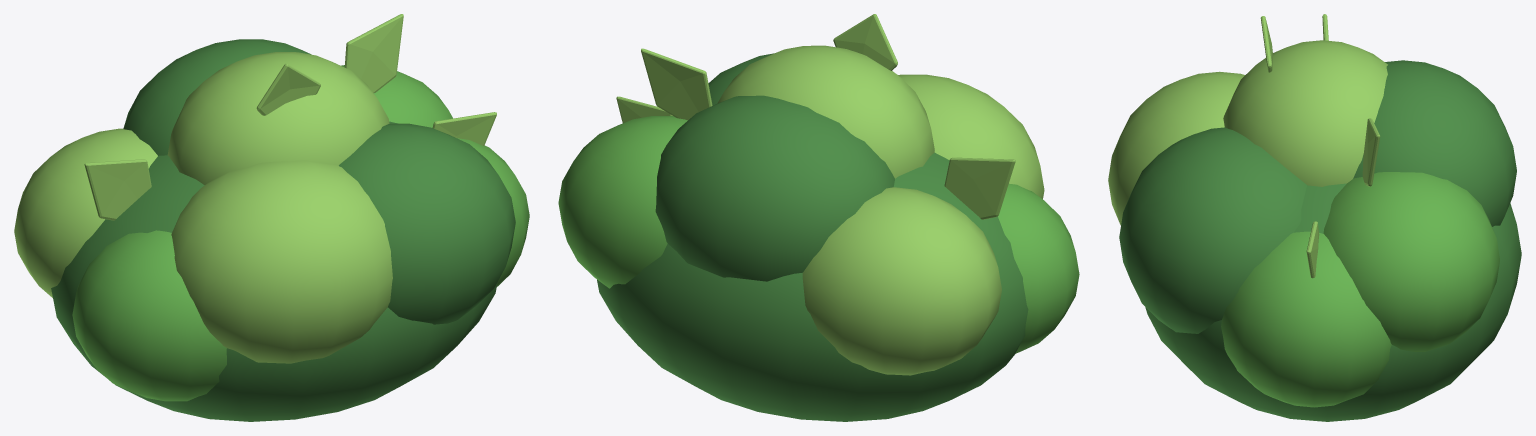
File: Bush_Round.fbx
3 views of the same model, side by side, from view 1: azimuth 30°, elevation 25°; view 2: azimuth 150°, elevation 25°; view 3: azimuth 270°, elevation 25° (orthographic).
Parts seen in each view (by area): view 1: Leaf_Cluster_01, Leaf_Cluster_02, Bush_Core, Leaf_Cluster_07, Leaf_Cluster_00, Leaf_Cluster_04, Leaf_Cluster_05, Leaf_Tip_00, Leaf_Tip_01, Leaf_Cluster_06, Leaf_Cluster_03, Leaf_Tip_02 (+1 smaller); view 2: Bush_Core, Leaf_Cluster_05, Leaf_Cluster_04, Leaf_Cluster_06, Leaf_Cluster_07, Leaf_Cluster_01, Leaf_Cluster_00, Leaf_Tip_01, Leaf_Tip_00, Leaf_Tip_02, Leaf_Tip_03, Leaf_Cluster_02; view 3: Leaf_Cluster_02, Leaf_Cluster_06, Leaf_Cluster_03, Leaf_Cluster_07, Bush_Core, Leaf_Cluster_05, Leaf_Cluster_01, Leaf_Tip_01, Leaf_Tip_03, Leaf_Tip_02.
Boxes of the visible parts, box(x1,y1,x2,y2) form: Leaf_Cluster_01: box(171, 160, 392, 363); Leaf_Cluster_02: box(339, 123, 515, 324); Bush_Core: box(51, 121, 497, 421); Leaf_Cluster_07: box(167, 52, 389, 184); Leaf_Cluster_00: box(72, 230, 226, 401); Leaf_Cluster_04: box(14, 128, 157, 297); Leaf_Cluster_05: box(123, 39, 311, 155); Leaf_Tip_00: box(84, 159, 151, 220); Leaf_Tip_01: box(344, 14, 403, 92); Leaf_Cluster_06: box(341, 65, 452, 127); Leaf_Cluster_03: box(456, 138, 529, 286); Leaf_Tip_02: box(256, 63, 320, 115); Bush_Core: box(597, 152, 1028, 421); Leaf_Cluster_05: box(655, 95, 894, 281); Leaf_Cluster_04: box(802, 187, 1001, 375); Leaf_Cluster_06: box(558, 116, 687, 288); Leaf_Cluster_07: box(717, 45, 934, 178); Leaf_Cluster_01: box(898, 74, 1044, 198); Leaf_Cluster_00: box(998, 183, 1079, 353); Leaf_Tip_01: box(641, 48, 712, 120); Leaf_Tip_00: box(944, 157, 1015, 219); Leaf_Tip_02: box(833, 14, 897, 70); Leaf_Tip_03: box(616, 96, 672, 123); Leaf_Cluster_02: box(708, 53, 773, 105); Leaf_Cluster_02: box(1119, 127, 1306, 333); Leaf_Cluster_06: box(1323, 172, 1499, 351); Leaf_Cluster_03: box(1221, 231, 1391, 407); Leaf_Cluster_07: box(1223, 40, 1387, 186); Bush_Core: box(1145, 183, 1521, 421); Leaf_Cluster_05: box(1353, 60, 1516, 226); Leaf_Cluster_01: box(1108, 71, 1244, 225); Leaf_Tip_01: box(1362, 118, 1380, 186); Leaf_Tip_03: box(1306, 221, 1319, 278); Leaf_Tip_02: box(1260, 16, 1272, 72).
Size of the model in its own units: 194 by 148 by 153.
